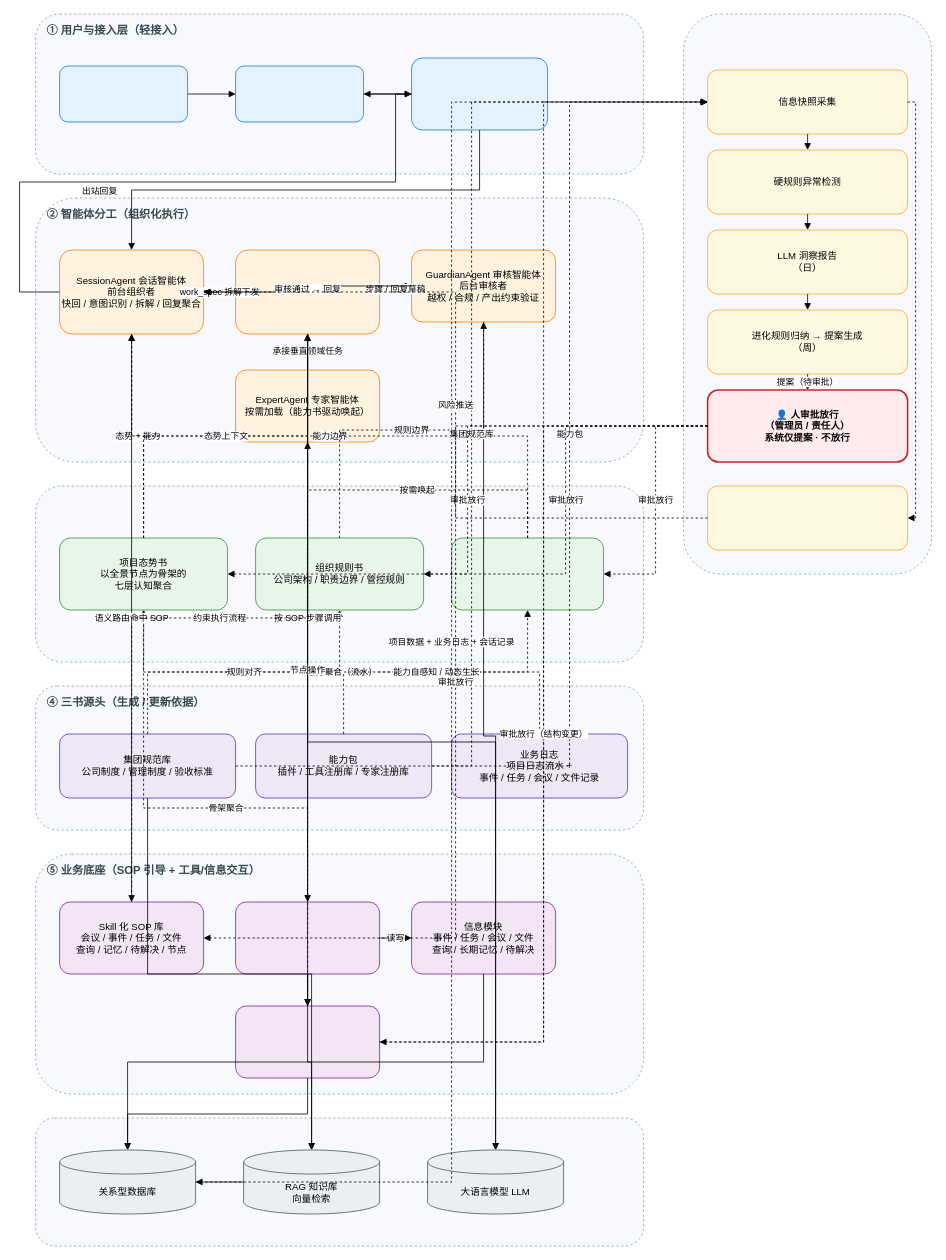
This 946x1260 diagram has some shape labels left out. The shapes that lost their labels are listed below. From the top down, each one's box as (x1, y1, x2, y2) in pixels, then its label:
(59, 65, 188, 122): 企业员工 （现场 / 项目 / 管理）
(235, 65, 364, 122): IM 平台 （自然语言交互界面）
(411, 57, 548, 130): 接入插件（薄网关） 去重 + 标准化 + 转发 无业务逻辑
(235, 249, 380, 334): WorkItemAgent 任务智能体 中台执行者 执行引擎（含纠错闭环）
(683, 13, 932, 574): ⑦ 定时复盘闭环（自进化 · 态势同步 · 经验积累）
(707, 485, 908, 550): 节点风险晨报 （日复盘 / 晨推送）
(35, 485, 644, 662): ③ 三书认知基座（共享信息地图 · 通用 LLM → 垂直领域团队智能体）
(451, 537, 604, 610): 系统能力书 能力范围 / 数据可见边界 按权限裁剪
(235, 901, 380, 974): 工具模块 业务流工具直调 + 工具注册表兜底
(235, 1005, 380, 1078): 全景节点图（项目态势感知） LLM 增强 FSM · 三态流转 父子加权 · 依赖链
(35, 1117, 644, 1246): ⑥ 基础设施（抽象）
